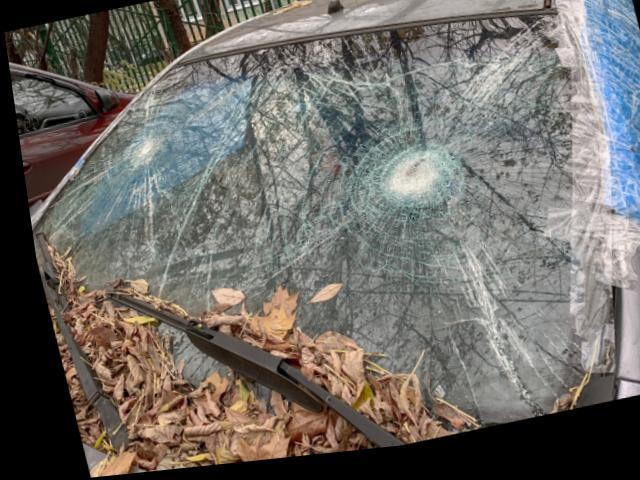glass shatter: (26, 27, 591, 432)
